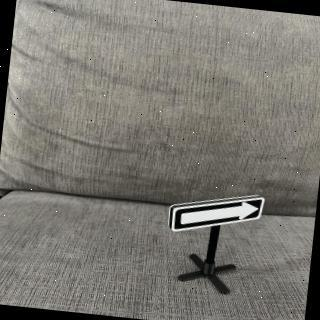sign_oneway_right: (170, 188, 266, 244)
